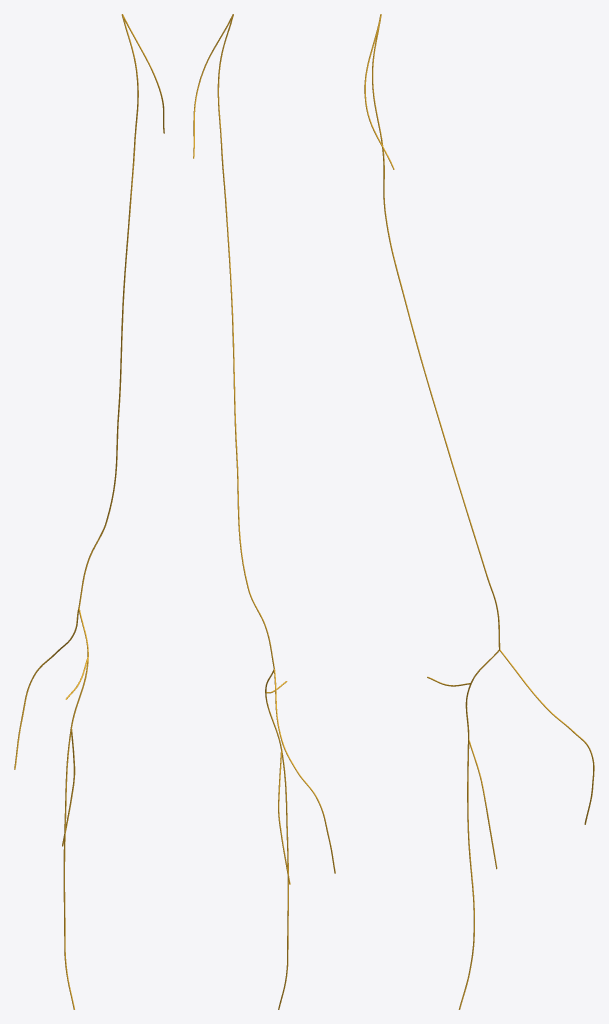
File: nervoso-saphenous-nerve-r.glb
3 views of the same model, side by side, from view 1: azimuth 30°, elevation 25°; view 2: azimuth 210°, elevation 25°; view 3: azimuth 270°, elevation 25° (orthographic). The views are drawn at different scales.
Visible parts, largest first — view 1: Saphenous nerve.r; view 2: Saphenous nerve.r; view 3: Saphenous nerve.r.
Boxes of the visible parts, box(x1,y1,x2,y2) form: Saphenous nerve.r: box(14, 14, 138, 1009); Saphenous nerve.r: box(217, 14, 335, 1009); Saphenous nerve.r: box(372, 14, 594, 1009).
Size of the model in its own units: 0.0634 by 0.7578 by 0.1581.
